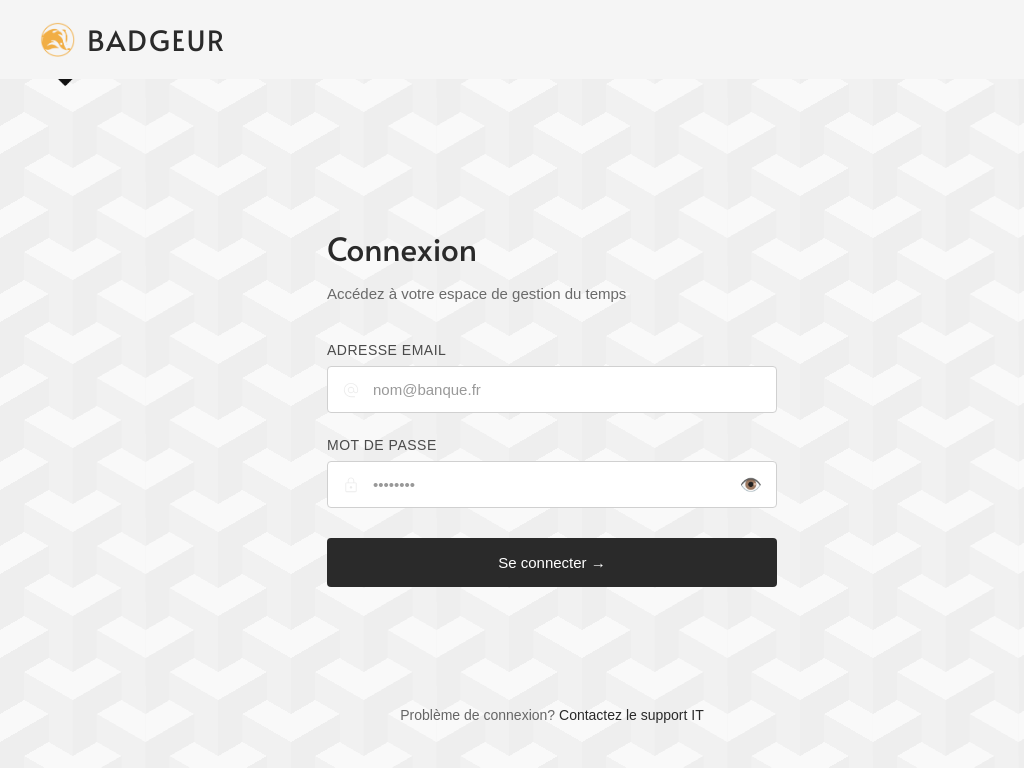
Test: Login Component › Shows MFA form when MFA is required
Type "john@example.com" into the field with placeholder "nom@banque.fr" at (552, 390), box [327,366,777,413]
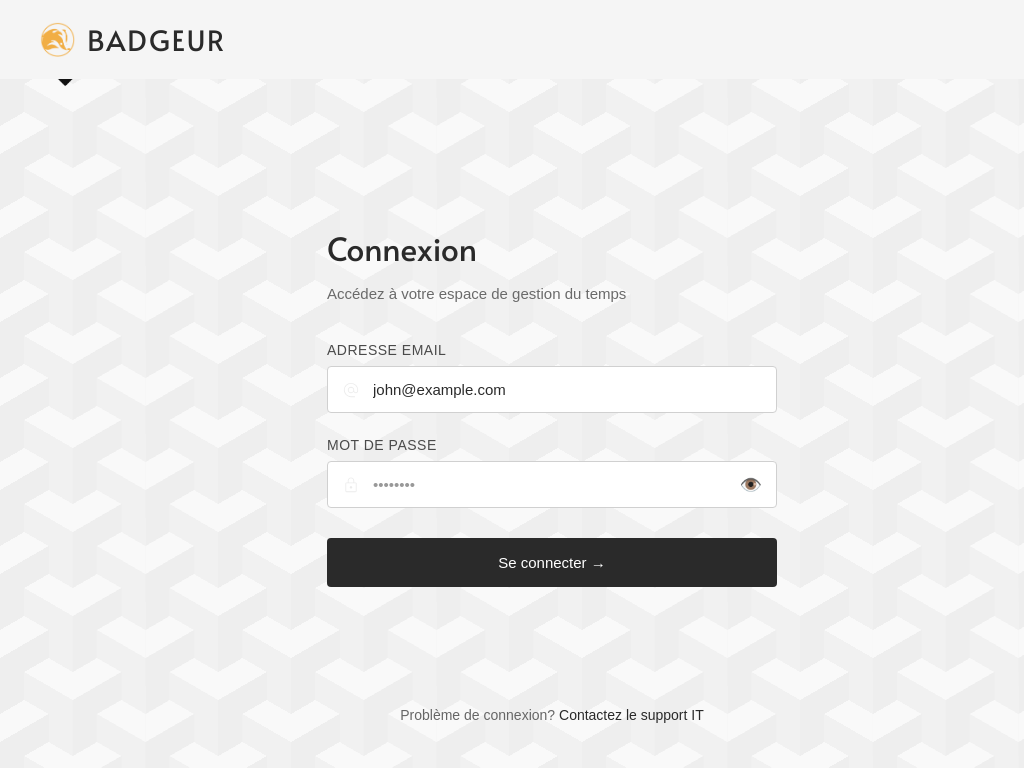
Type "password123" into the password field labelled "Mot de passe" at (552, 485), box [327,461,777,508]
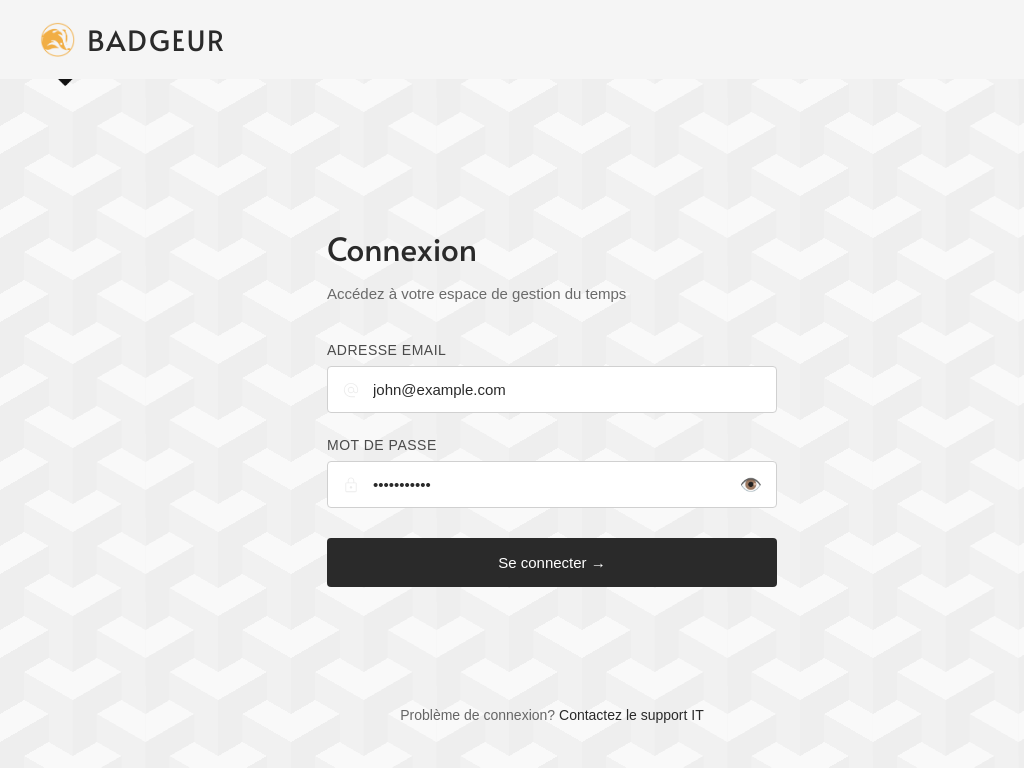
Click the button "Se connecter →" at (552, 563), box [327,538,777,587]
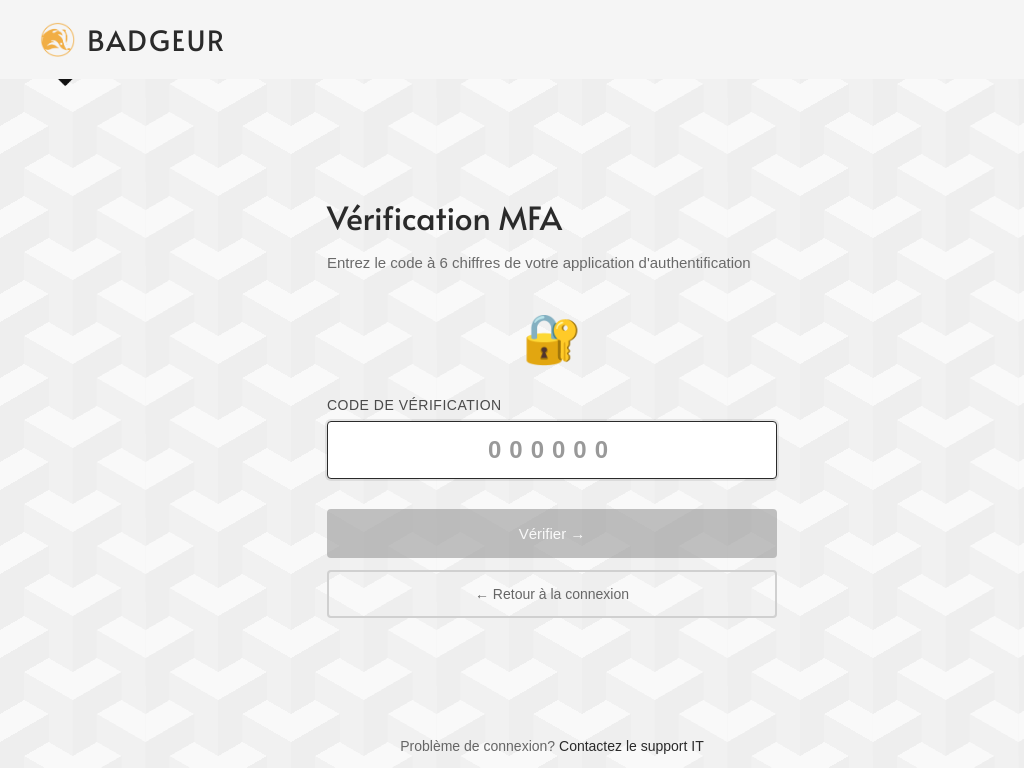
Expected: the heading "Vérification MFA" is shown, [327,195,562,239]
Expected: the field with placeholder "000000" is shown, [327,421,777,479]
